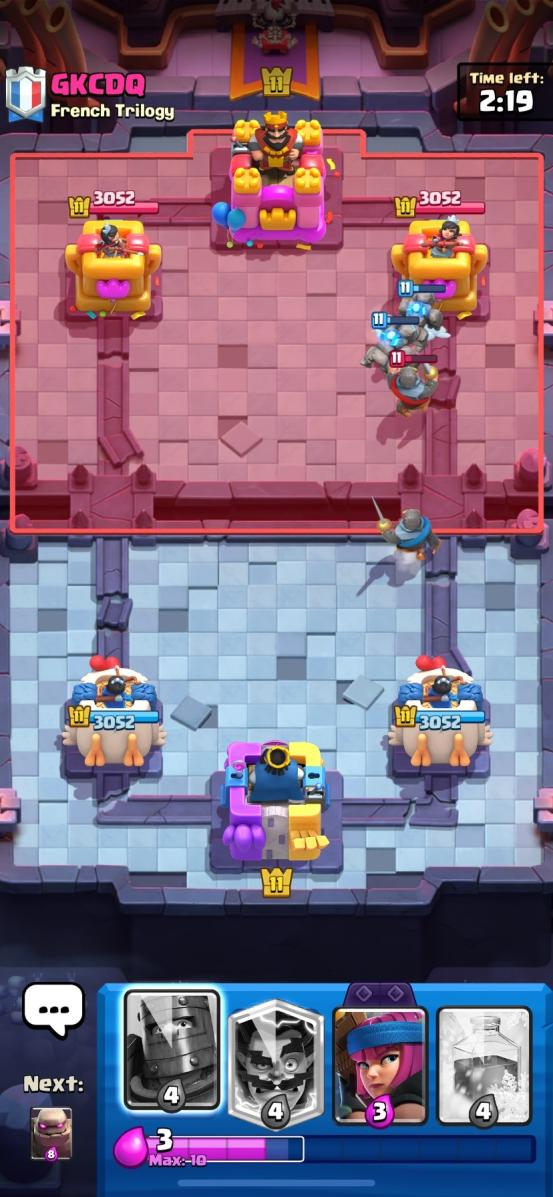EKingTower: (212, 112, 342, 250)
EKnight: (383, 352, 437, 416)
EnemyPrincessTower: (391, 216, 488, 320), (65, 219, 161, 320)
OKnight: (385, 509, 438, 560)
OMiniGolem: (361, 311, 415, 373), (388, 279, 445, 331)
OwnKingTower: (221, 742, 329, 862)
OwnPrincessTower: (388, 655, 491, 773), (63, 655, 165, 769)
